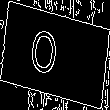O_S: (39, 25, 71, 85)
